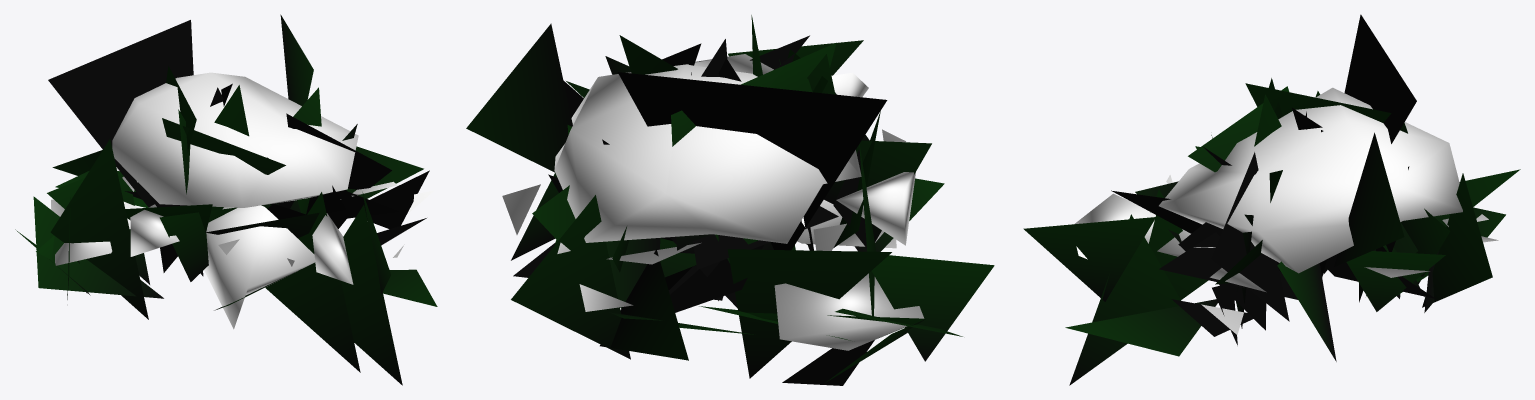
File: SnowBushClumpARHE_LOD3.fbx
3 renders of one model, left to right at view 1: azimuth 30°, elevation 25°; view 2: azimuth 150°, elevation 25°; view 3: azimuth 270°, elevation 25°, orthographic. The views are drawn at different scales.
Visible parts, largest first — view 1: SnowBushClumpARHE_LOD3; view 2: SnowBushClumpARHE_LOD3; view 3: SnowBushClumpARHE_LOD3.
Part boxes in pixels (x1,y1,x2,y2): SnowBushClumpARHE_LOD3: (15,14,437,385); SnowBushClumpARHE_LOD3: (466,15,994,385); SnowBushClumpARHE_LOD3: (1023,14,1520,385).
Size of the model in its own units: 3.31 by 2.38 by 4.02.
